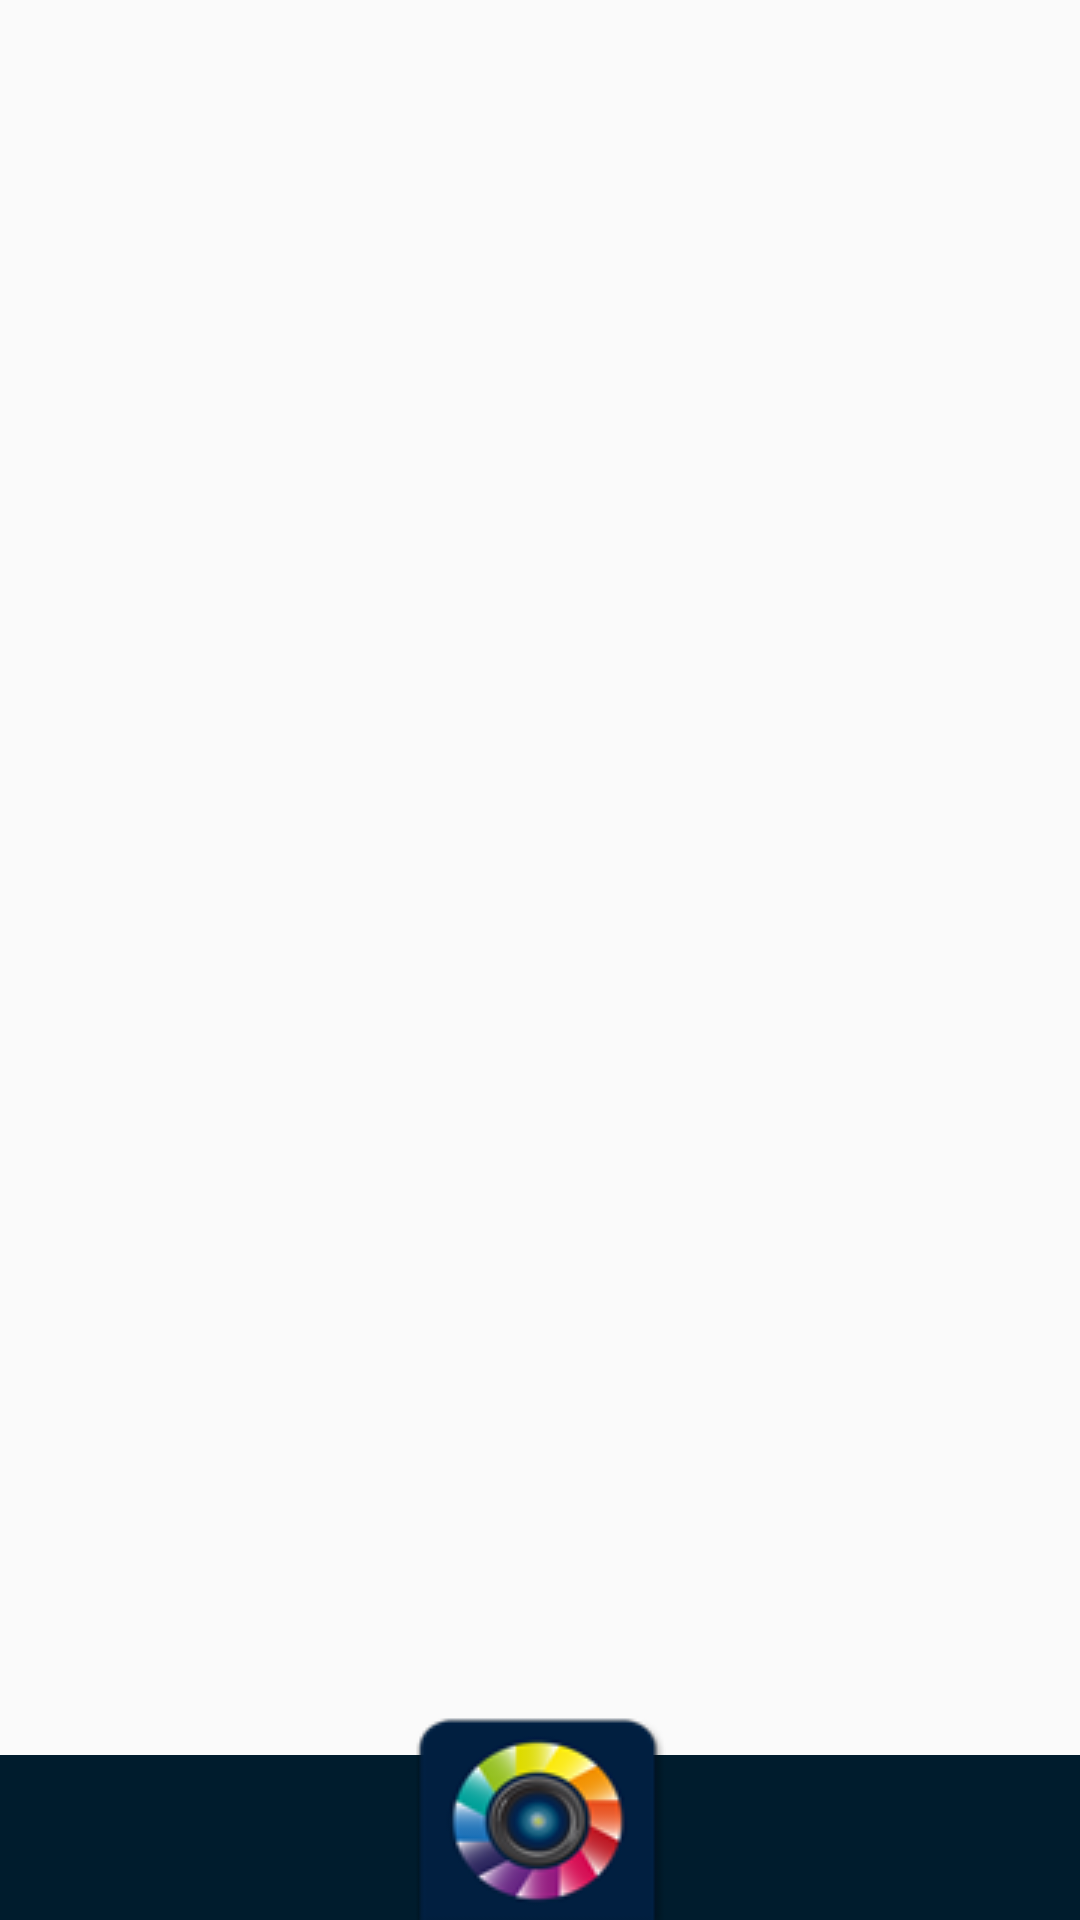

Screen size 1080×1920. Icon name, then its center in pixels as [x,y]:
camera two: [540,1818]
